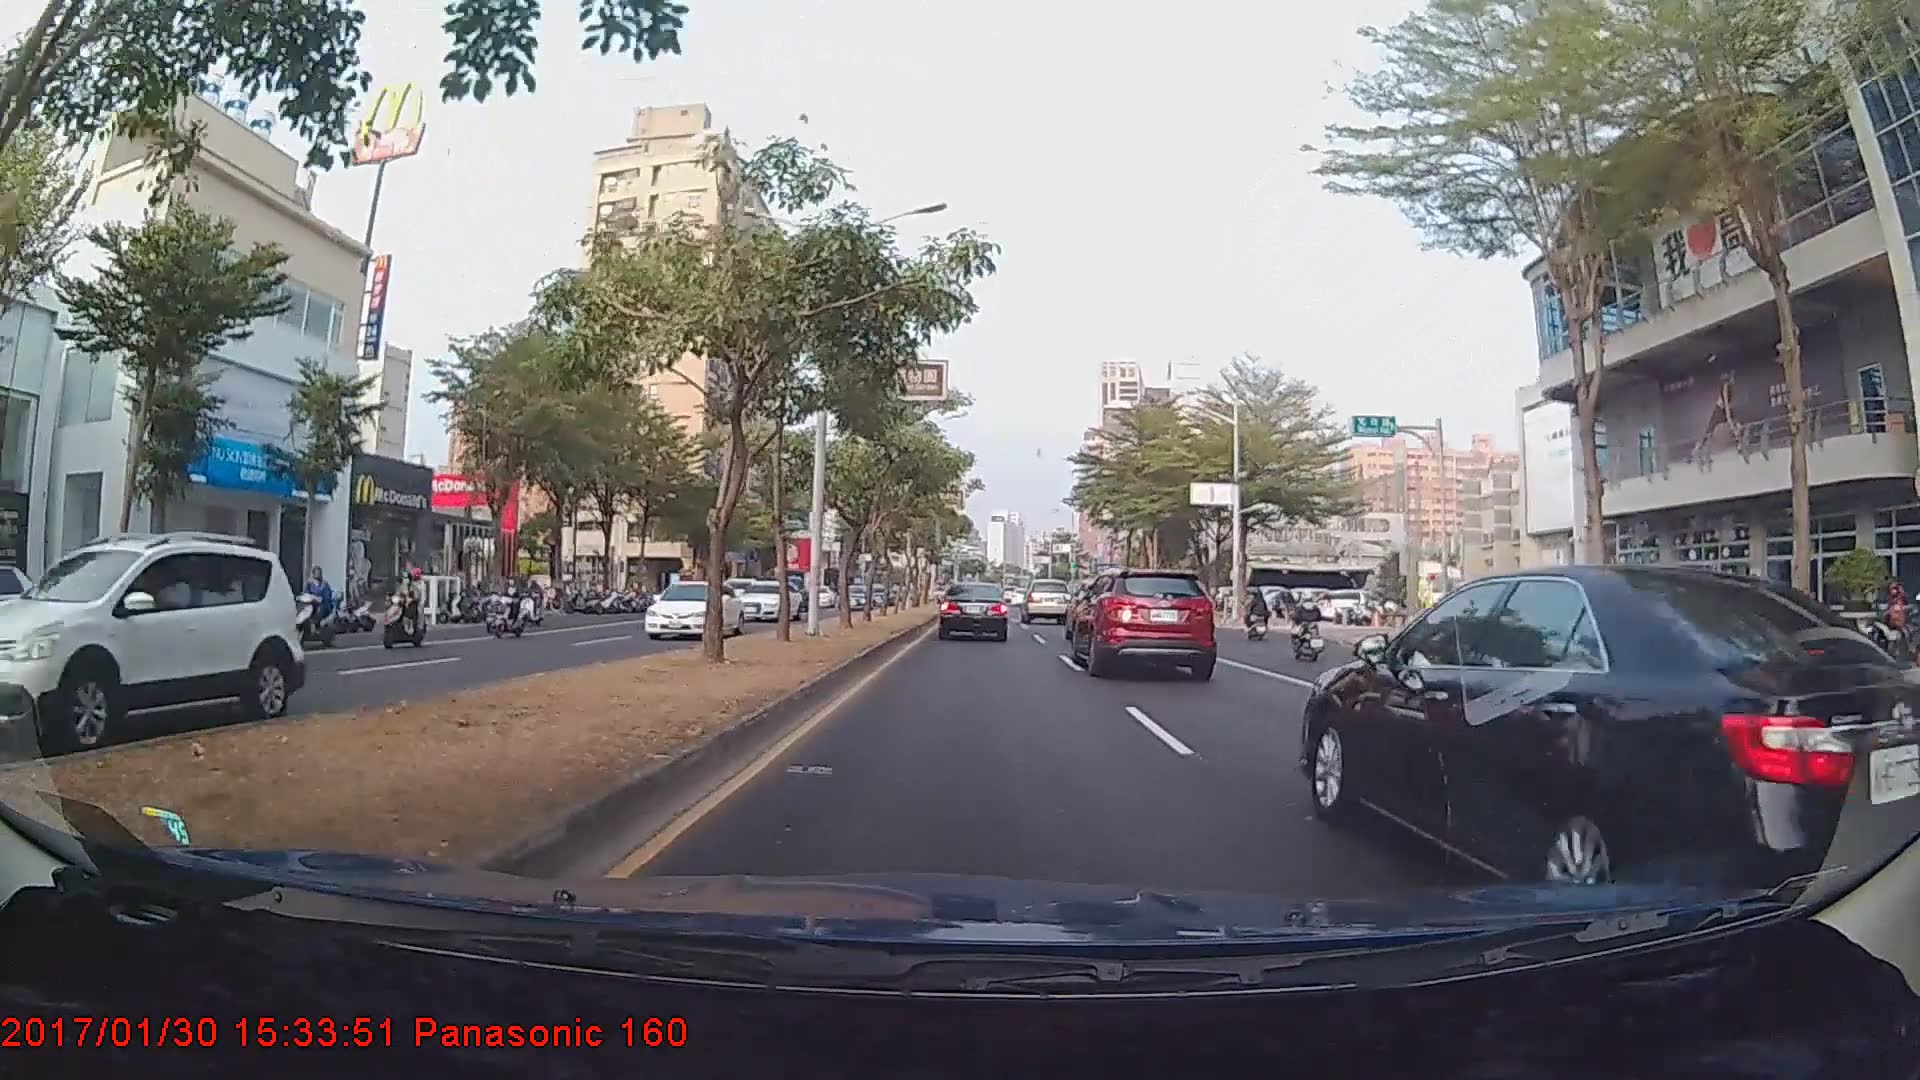rider: (372, 565, 434, 650), (1286, 586, 1330, 667)
vehicle: (1295, 562, 1917, 928), (0, 537, 308, 753), (1067, 566, 1215, 676), (641, 577, 746, 639), (936, 581, 1010, 642), (732, 573, 803, 624), (1019, 577, 1072, 624)
